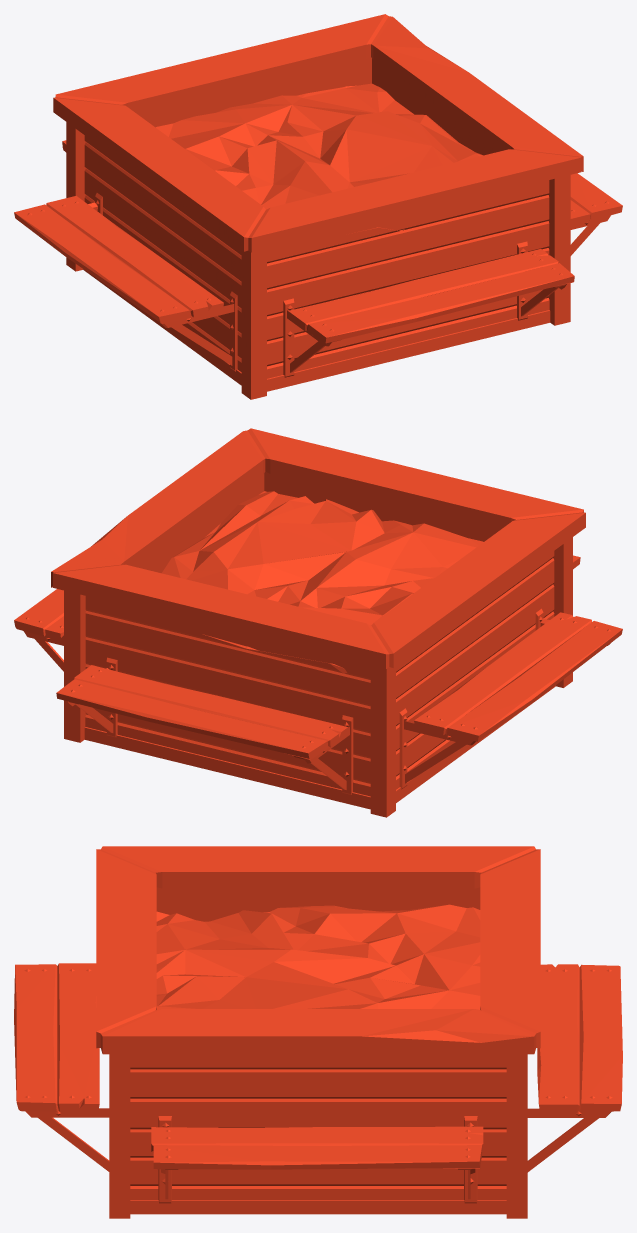
The model's file is SM_Pot_Tree_Bench_A.fbx.
The picture shows the model from 3 angles, top to bottom: view 1: azimuth 30°, elevation 25°; view 2: azimuth 150°, elevation 25°; view 3: azimuth 270°, elevation 25°; orthographic projection. The views are drawn at different scales.
Visible parts, largest first — view 1: SM_Pot_Tree_Bench_A; view 2: SM_Pot_Tree_Bench_A; view 3: SM_Pot_Tree_Bench_A.
Part boxes in pixels (x1,y1,x2,y2): SM_Pot_Tree_Bench_A: (14,14,622,399); SM_Pot_Tree_Bench_A: (14,428,622,817); SM_Pot_Tree_Bench_A: (14,846,622,1218).
Size of the model in its own units: 2.91 by 1 by 2.91.
